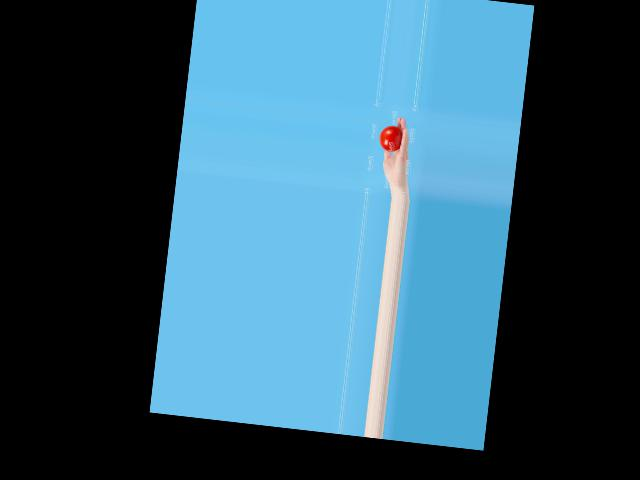tomato: (378, 124, 403, 152)
